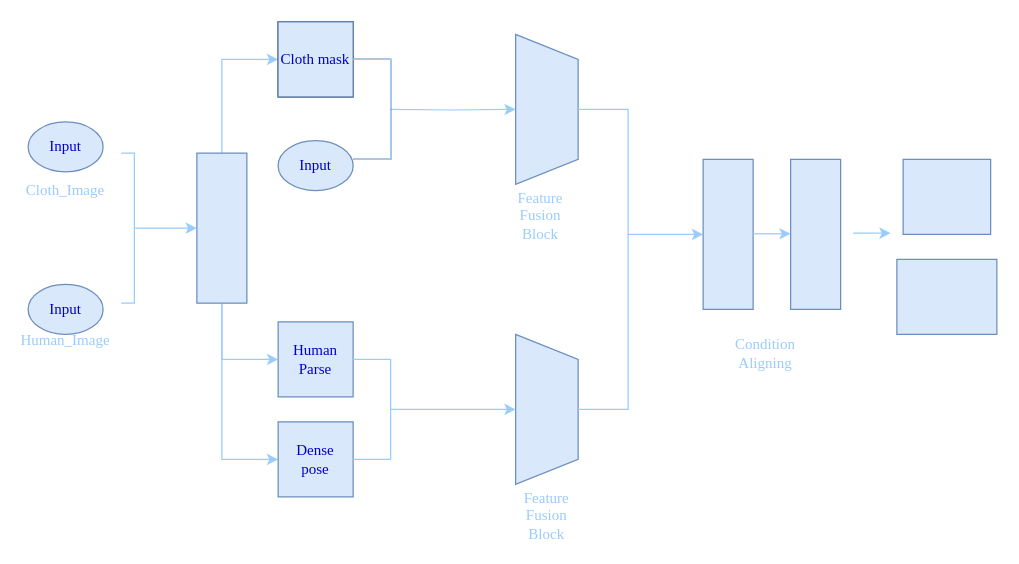
This 1019x564 diagram has some shape labels left out. Here are the shapes that lost their labels. From the top down, the centre of each, then its label:
point (946, 196): warped clothing image
point (221, 227): Pre-Process
point (946, 296): Segmentation Map
